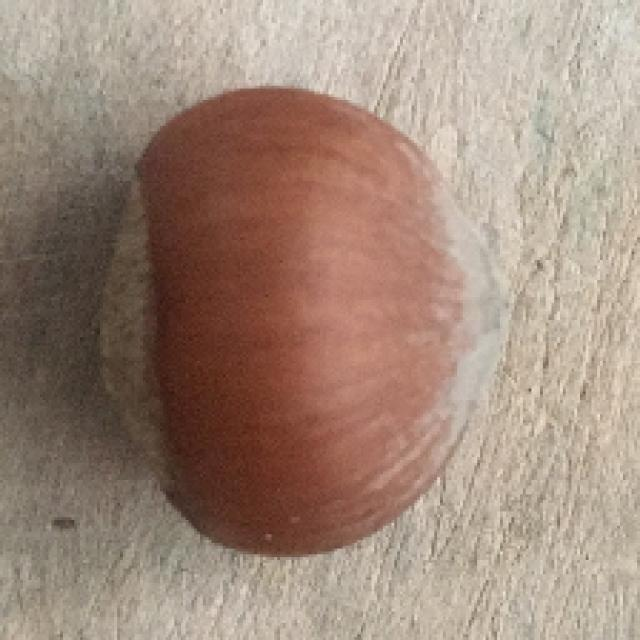qualityHazelnut: (92, 79, 486, 557)
